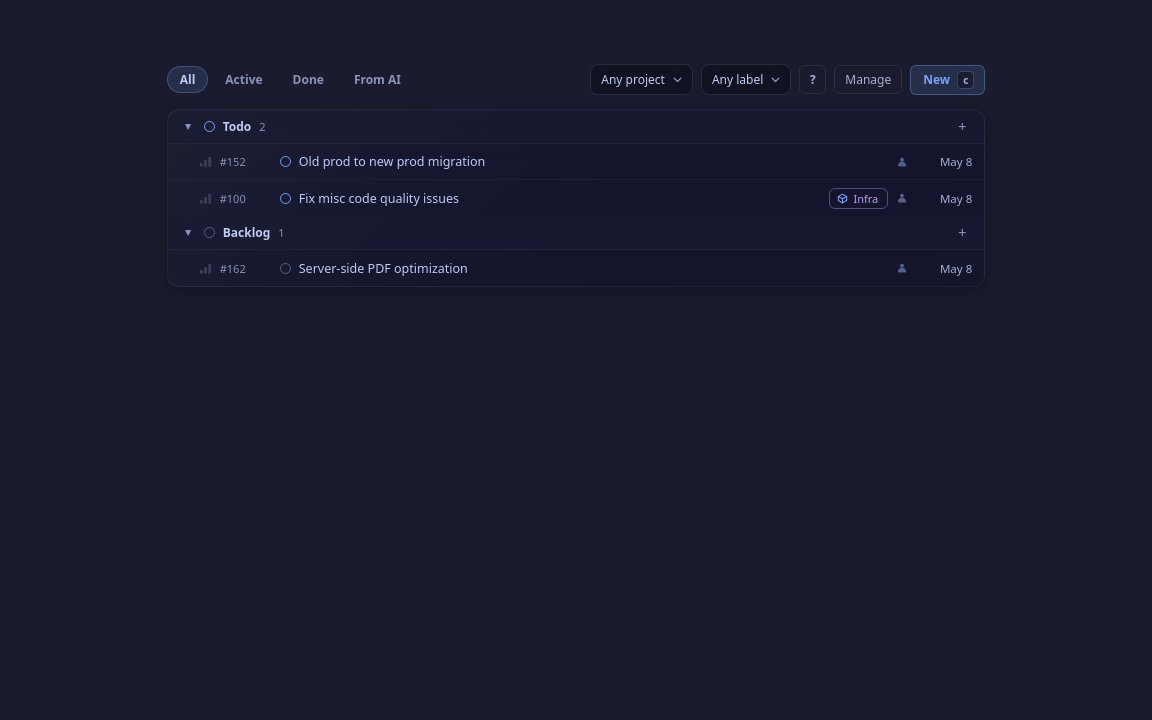
TodosPage notes editor › expands the notes field into a surface of its own
expect the text "Old prod to new prod migration" is shown: met, box [299,153,485,170]
Press c
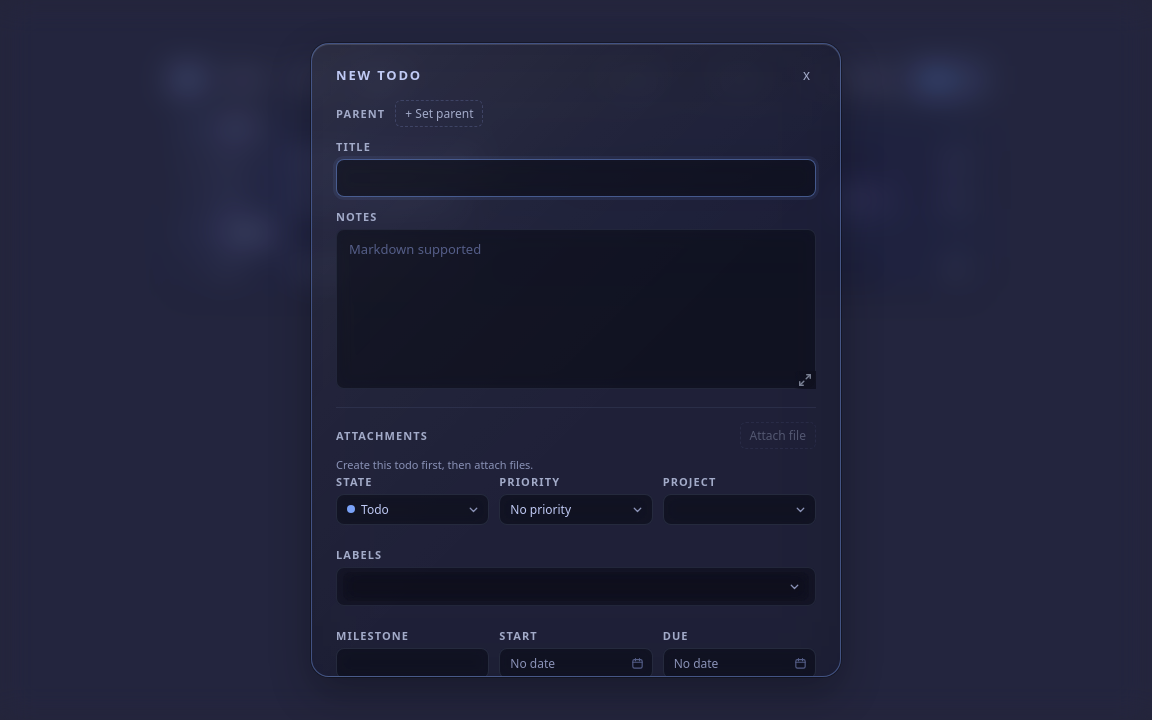
Click the button named "Open full editor": x=805, y=380 [794,371,816,389]
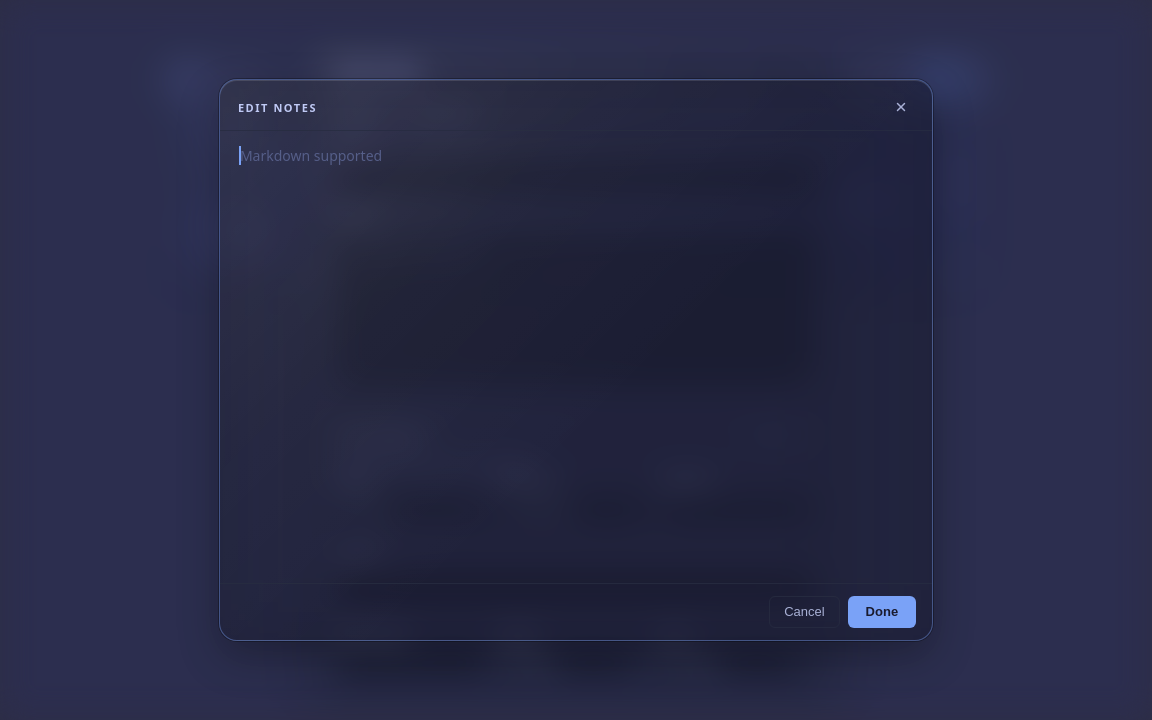
expect the button "Done" is shown: met, box [848,596,916,628]
expect the button "Cancel" is shown: met, box [769,596,840,628]
